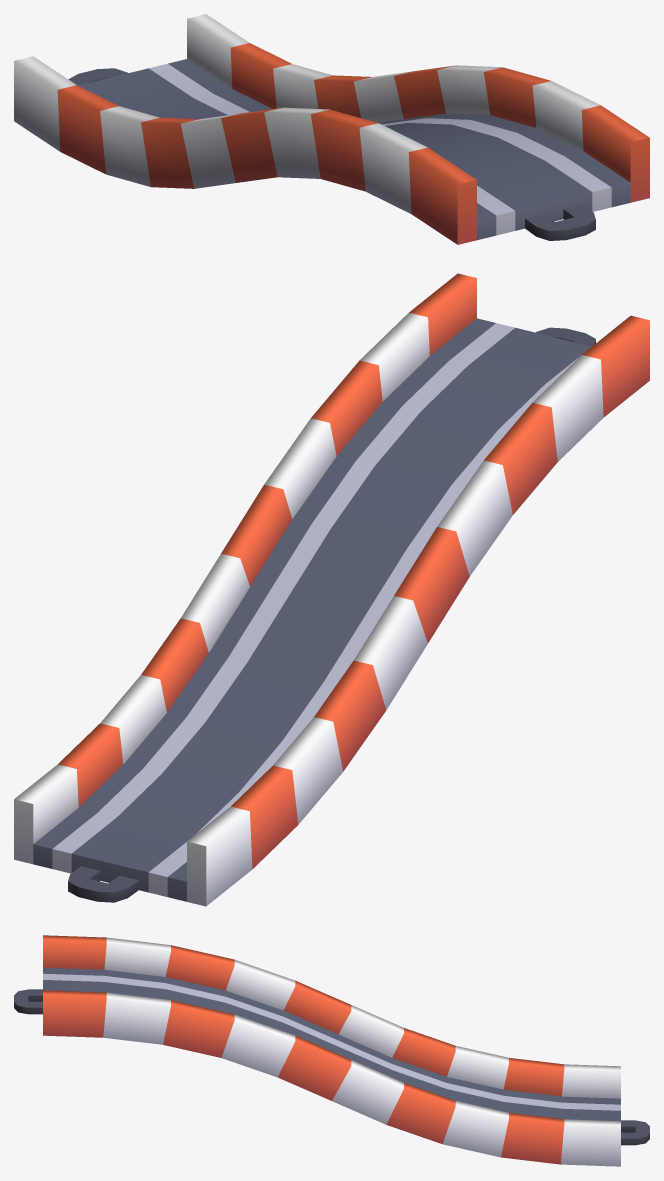
File: kenney-toy-car-track-road-narrow-straight-hill-complete.glb
The picture shows the model from 3 angles, top to bottom: view 1: azimuth 30°, elevation 25°; view 2: azimuth 150°, elevation 25°; view 3: azimuth 270°, elevation 25°; orthographic projection. The views are drawn at different scales.
Parts seen in each view (by area): view 1: track-road-narrow-straight-hill-complete; view 2: track-road-narrow-straight-hill-complete; view 3: track-road-narrow-straight-hill-complete.
Part boxes in pixels (bbox=[...]): track-road-narrow-straight-hill-complete: bbox=[14, 14, 649, 244]; track-road-narrow-straight-hill-complete: bbox=[14, 273, 649, 906]; track-road-narrow-straight-hill-complete: bbox=[14, 935, 649, 1166].
Bounding box in the file's own units: 1 × 1.3 × 4.4.
Materials: 1 (1 with a texture image).
